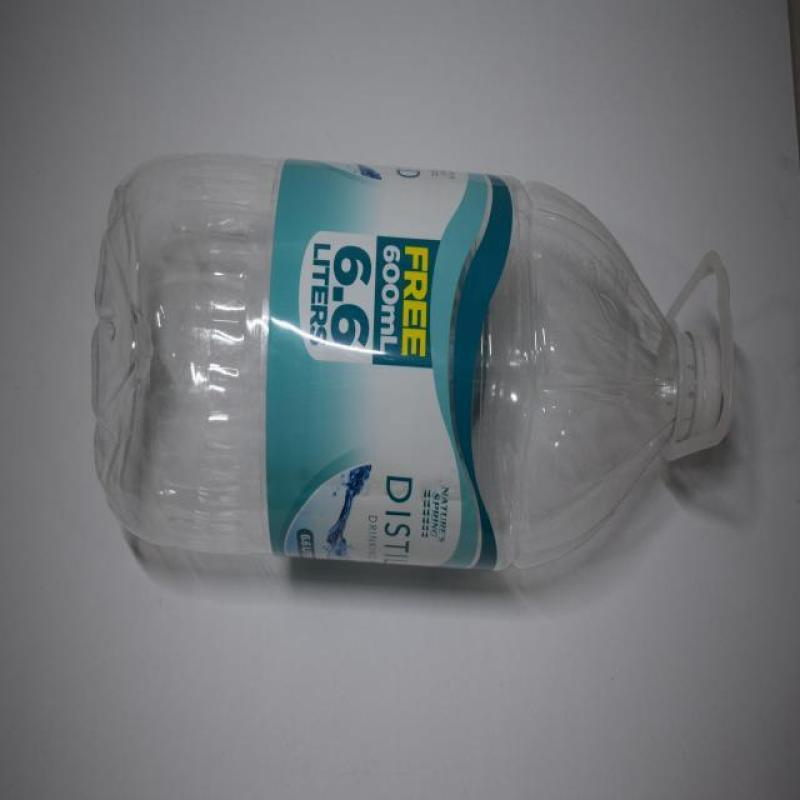botella: (85, 154, 730, 574)
